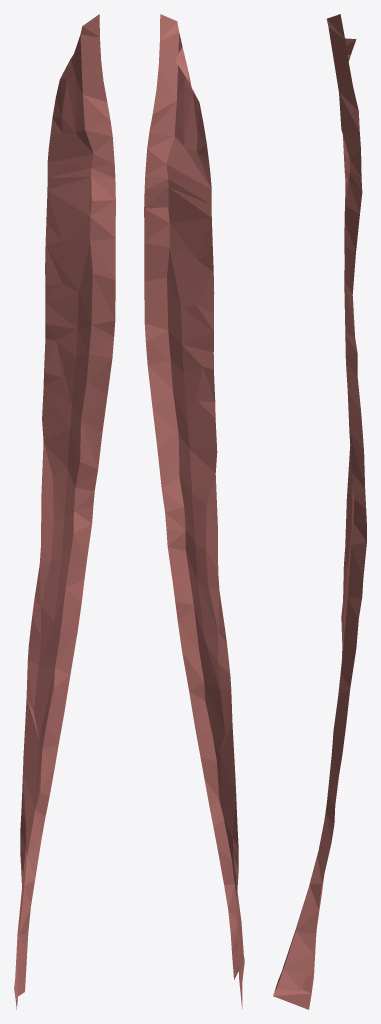
3 views of the same model, side by side, from view 1: azimuth 30°, elevation 25°; view 2: azimuth 210°, elevation 25°; view 3: azimuth 330°, elevation 25° (orthographic). The views are drawn at different scales.
Parts seen in each view (by area): view 1: ZA_c6a3df341c3d54e8; view 2: ZA_c6a3df341c3d54e8; view 3: ZA_c6a3df341c3d54e8.
Part boxes in pixels (x1,y1,x2,y2): ZA_c6a3df341c3d54e8: (14, 14, 115, 1009); ZA_c6a3df341c3d54e8: (144, 14, 244, 1008); ZA_c6a3df341c3d54e8: (273, 14, 366, 1009).
Size of the model in its own units: 0.0283 by 0.2912 by 0.0204.
